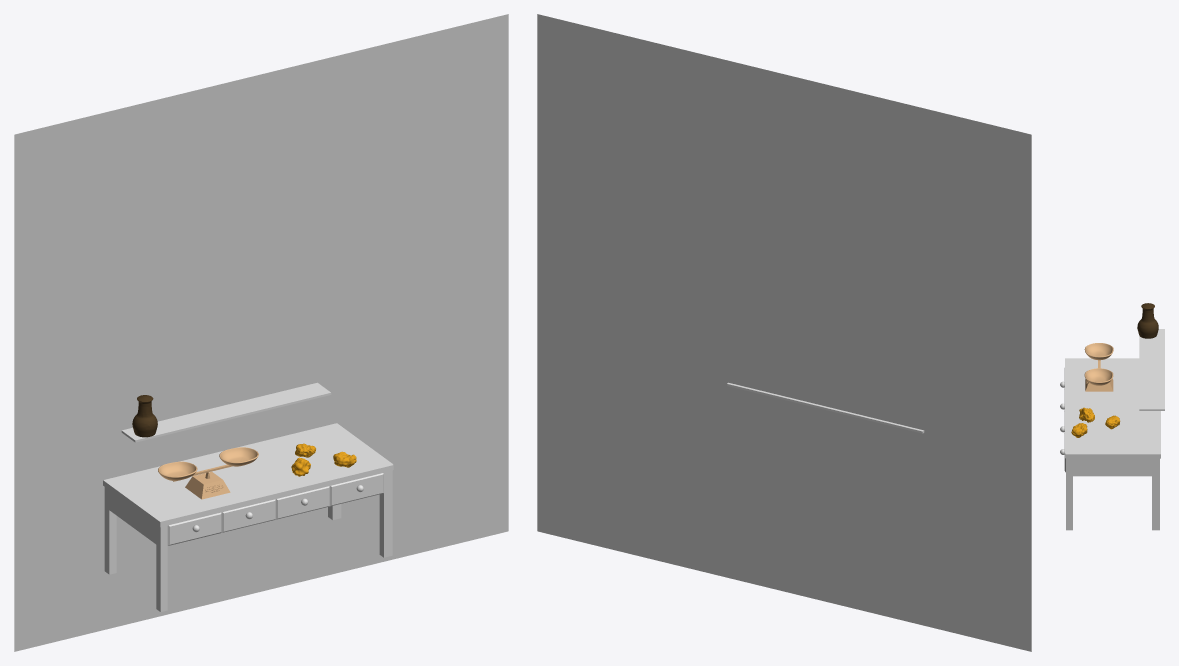
The picture shows the model from 3 angles, left to right: view 1: azimuth 30°, elevation 25°; view 2: azimuth 150°, elevation 25°; view 3: azimuth 270°, elevation 25°; orthographic projection. The views are drawn at different scales.
Visible parts, largest first — view 1: стена, Sphere, Plane, чаша 2, Sphere.001; view 2: стена, Plane; view 3: Sphere, Plane, чаша 2, Sphere.001, самородок 2, самородок 1.
Part boxes in pixels (x1,y1,x2,y2): стена: (14, 14, 508, 651); Sphere: (103, 423, 393, 611); Plane: (121, 382, 331, 442); чаша 2: (158, 447, 258, 499); Sphere.001: (132, 395, 157, 437); стена: (537, 14, 1031, 651); Plane: (727, 382, 924, 433); Sphere: (1060, 358, 1160, 530); Plane: (1139, 329, 1164, 410); чаша 2: (1084, 343, 1113, 391); Sphere.001: (1137, 303, 1158, 338); самородок 2: (1079, 407, 1094, 422); самородок 1: (1071, 423, 1087, 437).
Bounding box in the file's own units: 1434 × 1434 × 313.
